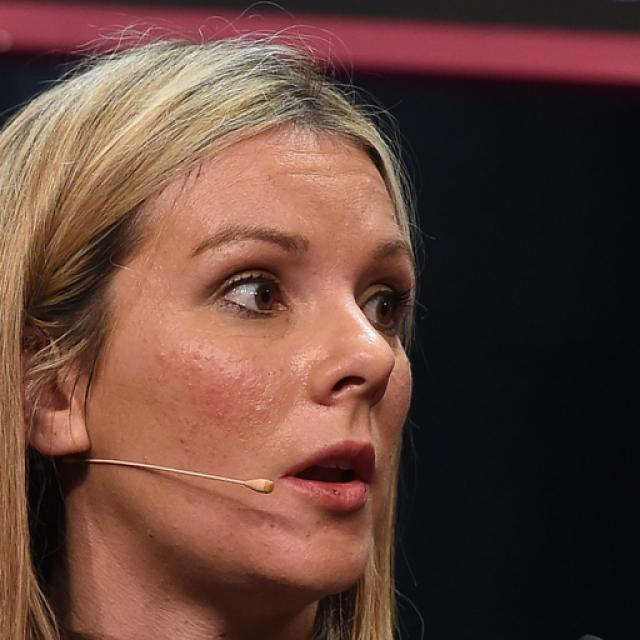Acne: (236, 420, 252, 447), (209, 405, 229, 423), (178, 376, 199, 393), (151, 349, 166, 364), (264, 395, 278, 410), (202, 353, 218, 366), (230, 388, 246, 401)
